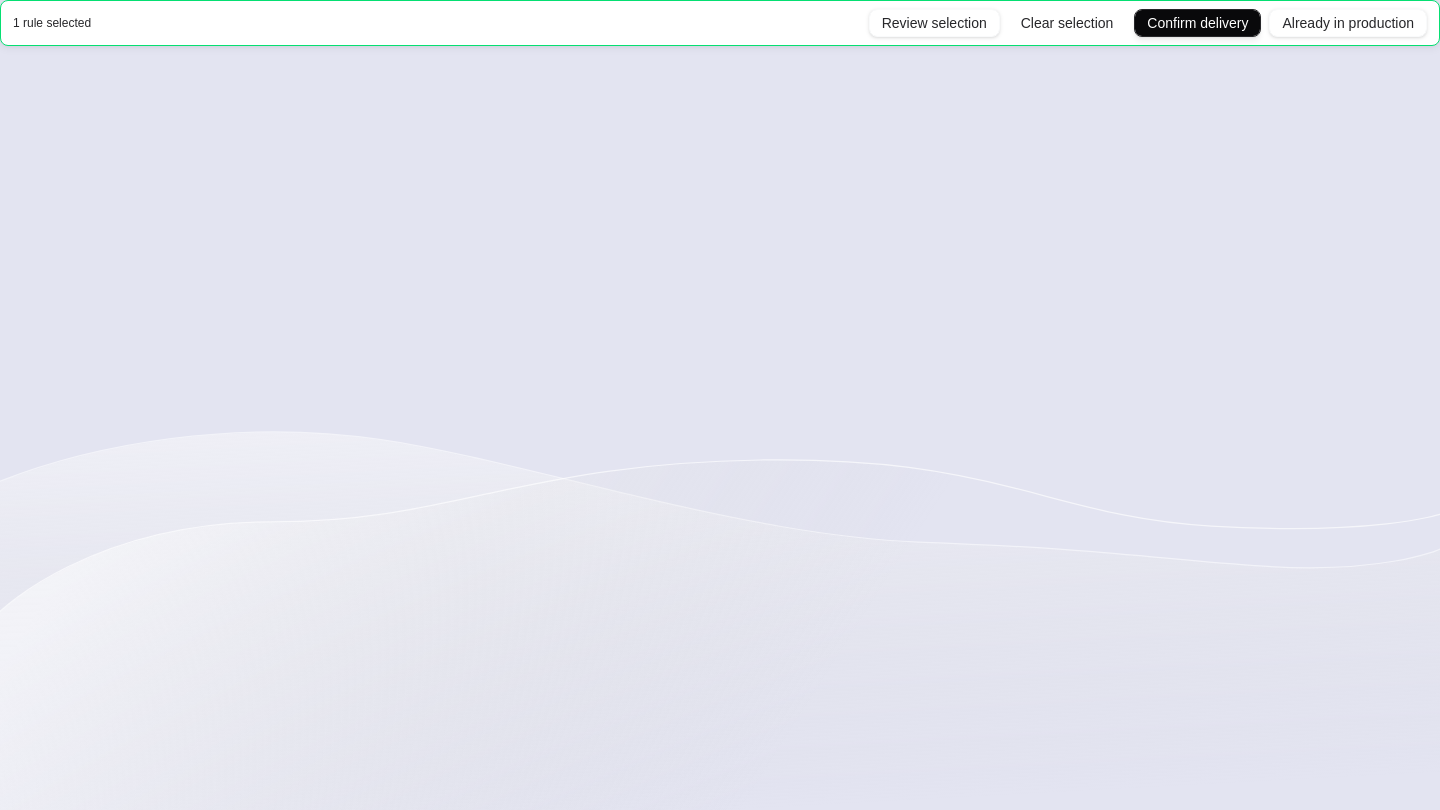
Intent delivery UI › separates already effective rules from newly delivered rules
Click the button "Confirm delivery": click(1198, 23) [1134,9,1261,37]
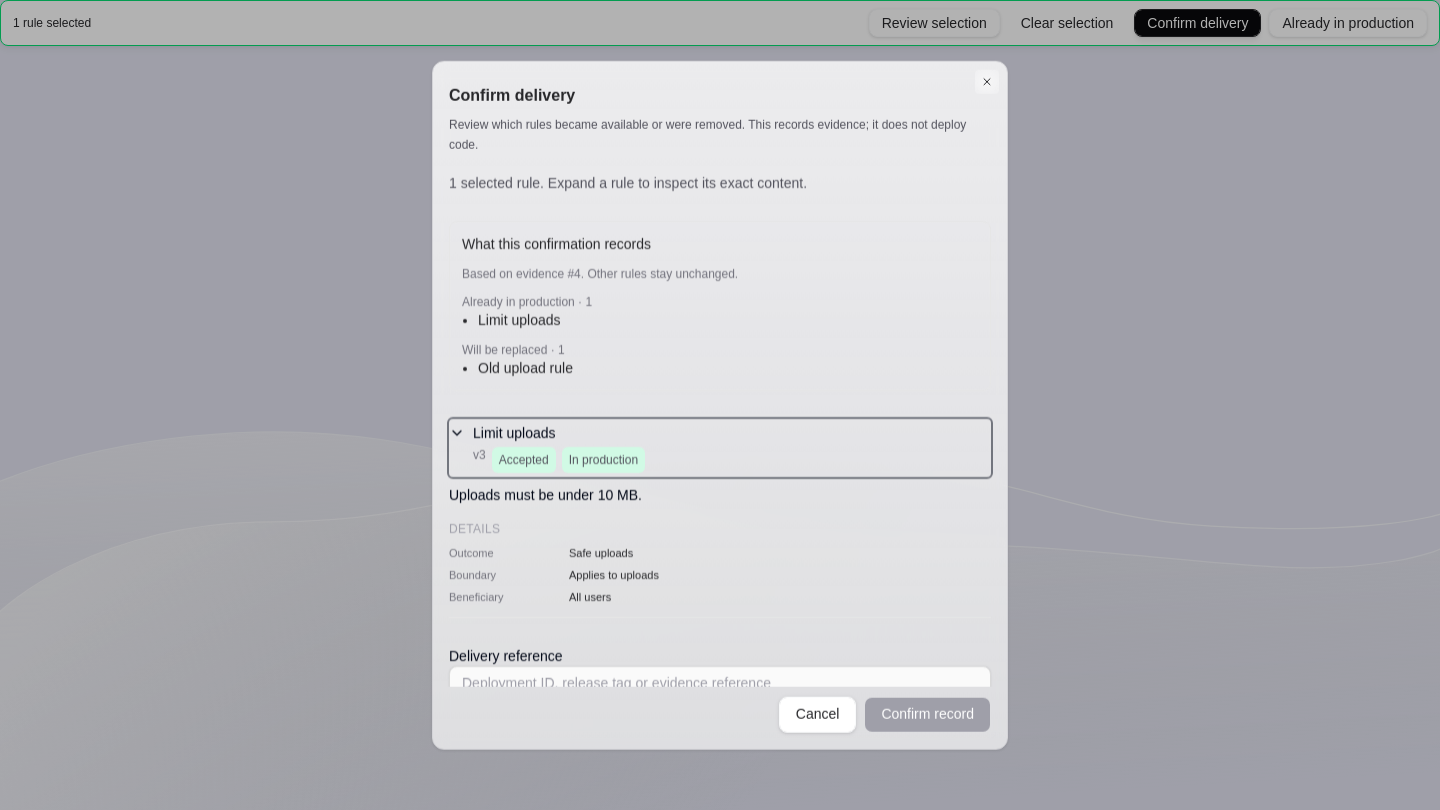
Expected: the dialog is shown, [432,61,1008,749]
Expected: the text "Already in production · 1" is shown, [462,295,592,309]
